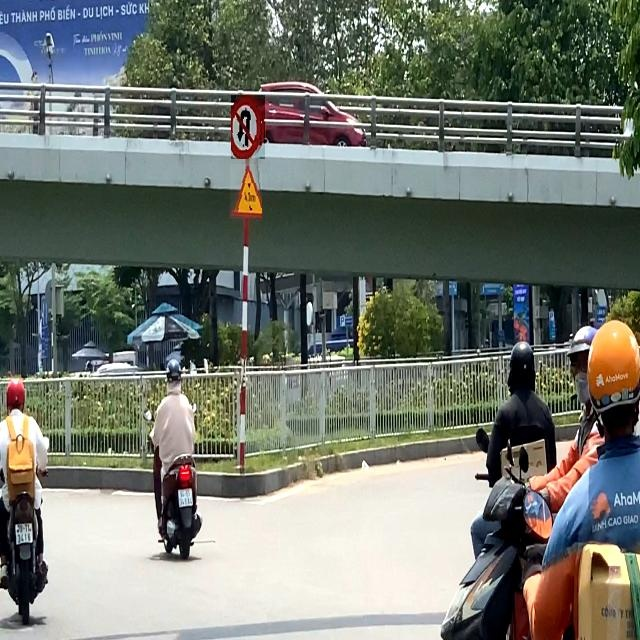bien_cam: (232, 95, 266, 159), (230, 164, 262, 218)
